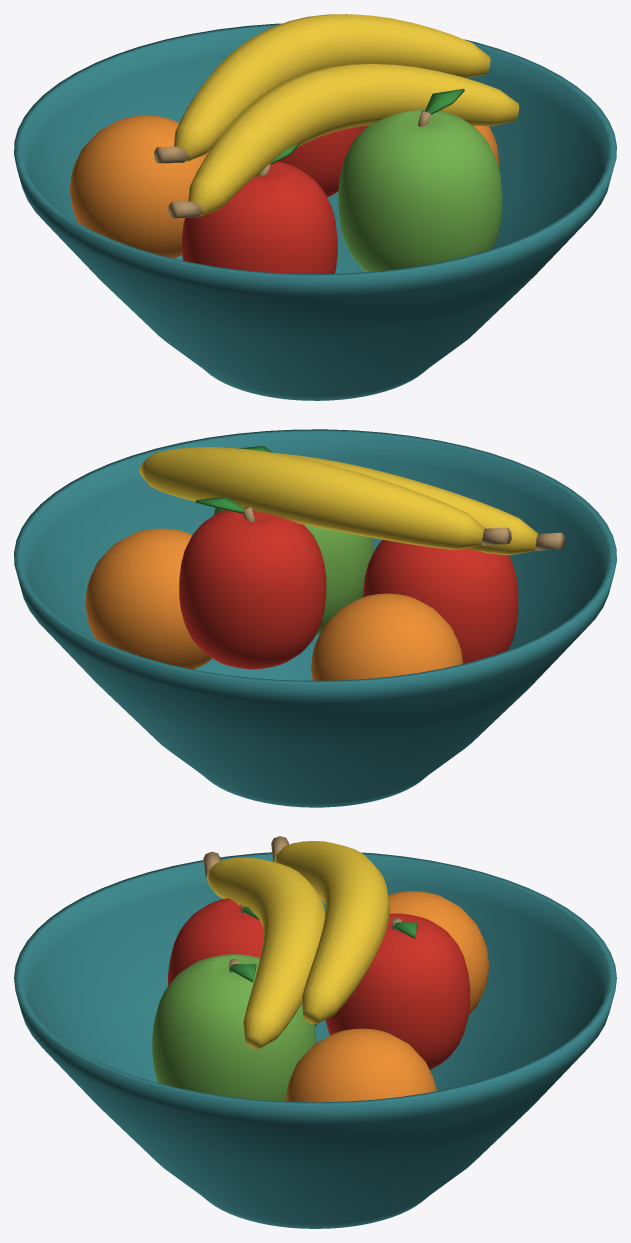
File: fruit-bowl.glb
3 renders of one model, top to bottom at view 1: azimuth 30°, elevation 25°; view 2: azimuth 150°, elevation 25°; view 3: azimuth 270°, elevation 25°, orthographic.
Visible parts, largest first — view 1: Open ceramic bowl, Original lobed apple.001, Curved banana, Curved banana.001, Original citrus fruit, Original lobed apple, Original lobed apple.002, Apple leaf.001; view 2: Open ceramic bowl, Original lobed apple.002, Curved banana.001, Original citrus fruit.001, Original lobed apple, Original citrus fruit, Original lobed apple.001, Curved banana; view 3: Open ceramic bowl, Original lobed apple.001, Original lobed apple.002, Curved banana, Curved banana.001, Original citrus fruit.001, Original lobed apple, Original citrus fruit.
Part boxes in pixels (bbox=[...]): Open ceramic bowl: bbox=[14, 23, 616, 400]; Original lobed apple.001: bbox=[338, 109, 502, 271]; Curved banana: bbox=[188, 63, 519, 216]; Curved banana.001: bbox=[174, 14, 490, 161]; Original citrus fruit: bbox=[69, 115, 210, 258]; Original lobed apple: bbox=[182, 161, 337, 273]; Original lobed apple.002: bbox=[278, 125, 368, 197]; Apple leaf.001: bbox=[425, 88, 464, 114]; Open ceramic bowl: bbox=[14, 429, 616, 807]; Original lobed apple.002: bbox=[179, 508, 326, 669]; Curved banana.001: bbox=[139, 447, 484, 549]; Original citrus fruit.001: bbox=[85, 528, 211, 669]; Original lobed apple: bbox=[363, 539, 518, 663]; Original citrus fruit: bbox=[311, 593, 463, 680]; Original lobed apple.001: bbox=[213, 507, 373, 634]; Curved banana: bbox=[275, 453, 538, 555]; Open ceramic bowl: bbox=[14, 852, 616, 1228]; Original lobed apple.001: bbox=[152, 954, 316, 1101]; Original lobed apple.002: bbox=[325, 913, 470, 1069]; Curved banana: bbox=[206, 857, 325, 1049]; Curved banana.001: bbox=[274, 841, 389, 1024]; Original citrus fruit.001: bbox=[285, 1028, 436, 1102]; Original lobed apple: bbox=[168, 898, 316, 1026]; Original citrus fruit: bbox=[388, 891, 489, 1014].
Size of the model in its own units: 0.26 by 0.1479 by 0.26.
7 materials, 7 textured.
